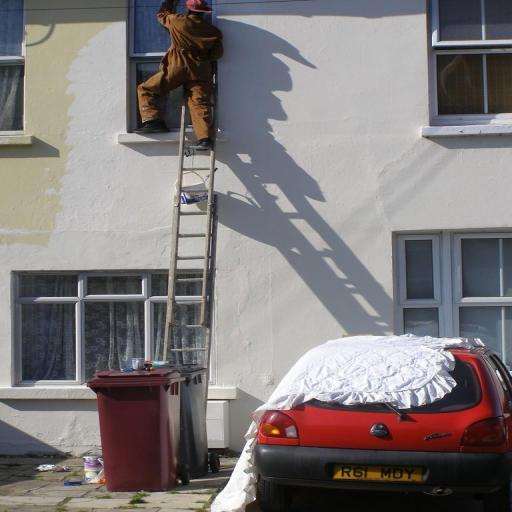trash-can: (88, 354, 190, 501)
